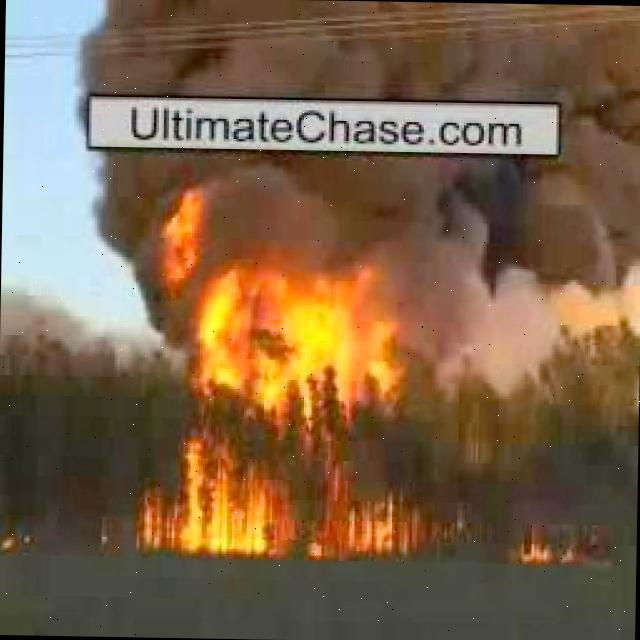fire: (138, 420, 448, 559), (186, 260, 427, 409), (152, 194, 206, 285), (514, 528, 580, 564)
